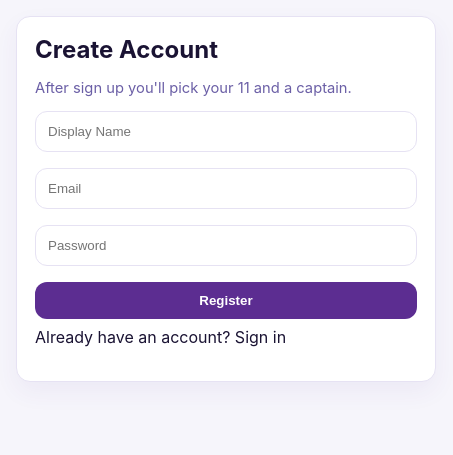
Test: Register Component › shows specific error for email already in use
Type "John Doe" into the field with placeholder "Display Name" at (226, 132), box [35, 111, 417, 152]
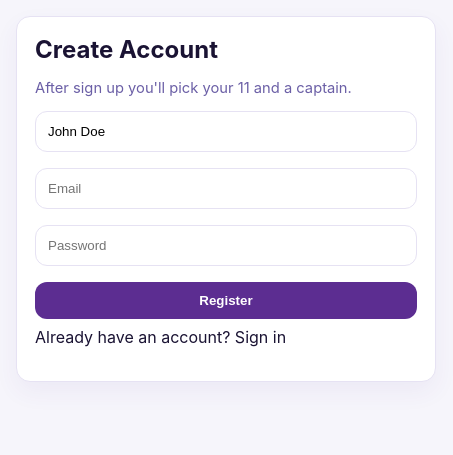
Type "john@example.com" into the field with placeholder "Email" at (226, 189), box [35, 168, 417, 209]
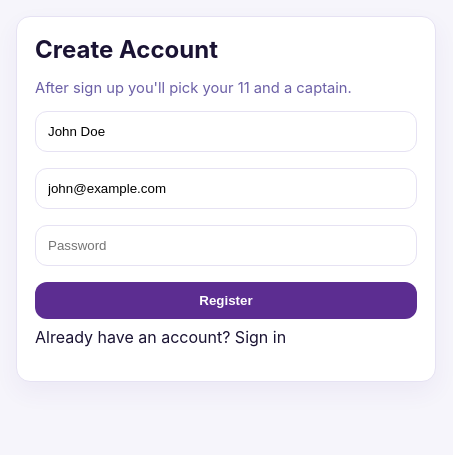
Type "password123" into the password field with placeholder "Password" at (226, 246), box [35, 225, 417, 266]
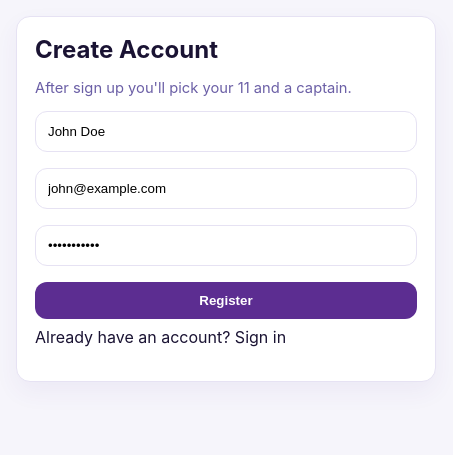
Click the button "Register" at (226, 301), box [35, 282, 417, 319]
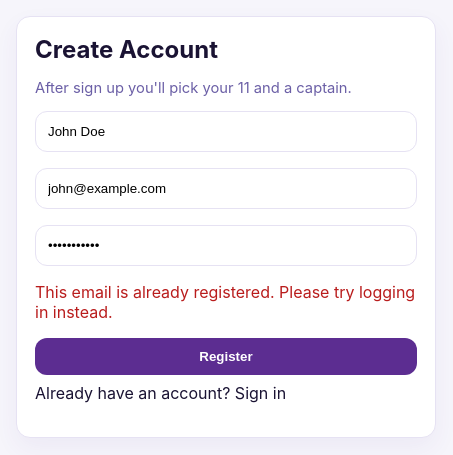
Expected: the text "This email is already registered. Please try logging in instead." is shown, [35, 282, 417, 322]
